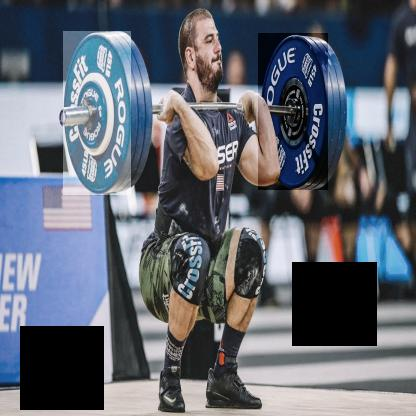barbell: (64, 33, 132, 197), (260, 34, 330, 191)
